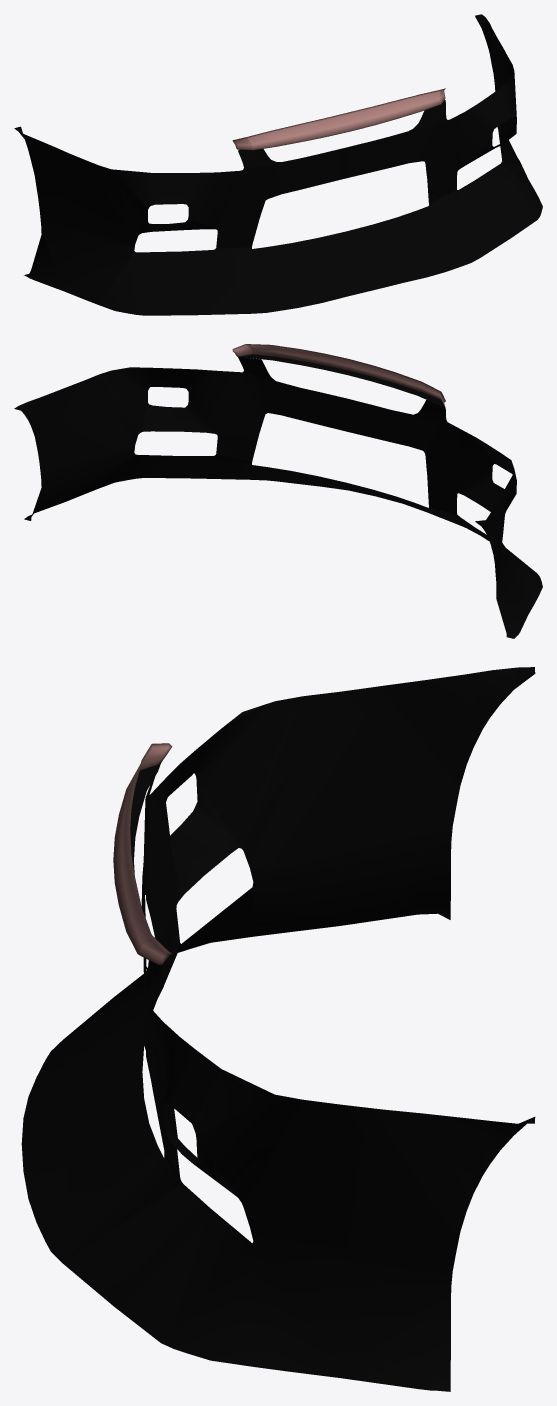
Rendered from R34_FB03_Trim.fbx.
3 renders of one model, top to bottom at view 1: azimuth 30°, elevation 25°; view 2: azimuth 150°, elevation 25°; view 3: azimuth 270°, elevation 25°, orthographic. The views are drawn at different scales.
Parts seen in each view (by area): view 1: R34_FB03_Trim; view 2: R34_FB03_Trim; view 3: R34_FB03_Trim.
Boxes of the visible parts, x1,y1,x2,y2 form: R34_FB03_Trim: (14, 14, 542, 315); R34_FB03_Trim: (14, 344, 542, 638); R34_FB03_Trim: (21, 667, 535, 1391).
Bounding box in the file's own units: 184 × 57.99 × 83.52.
